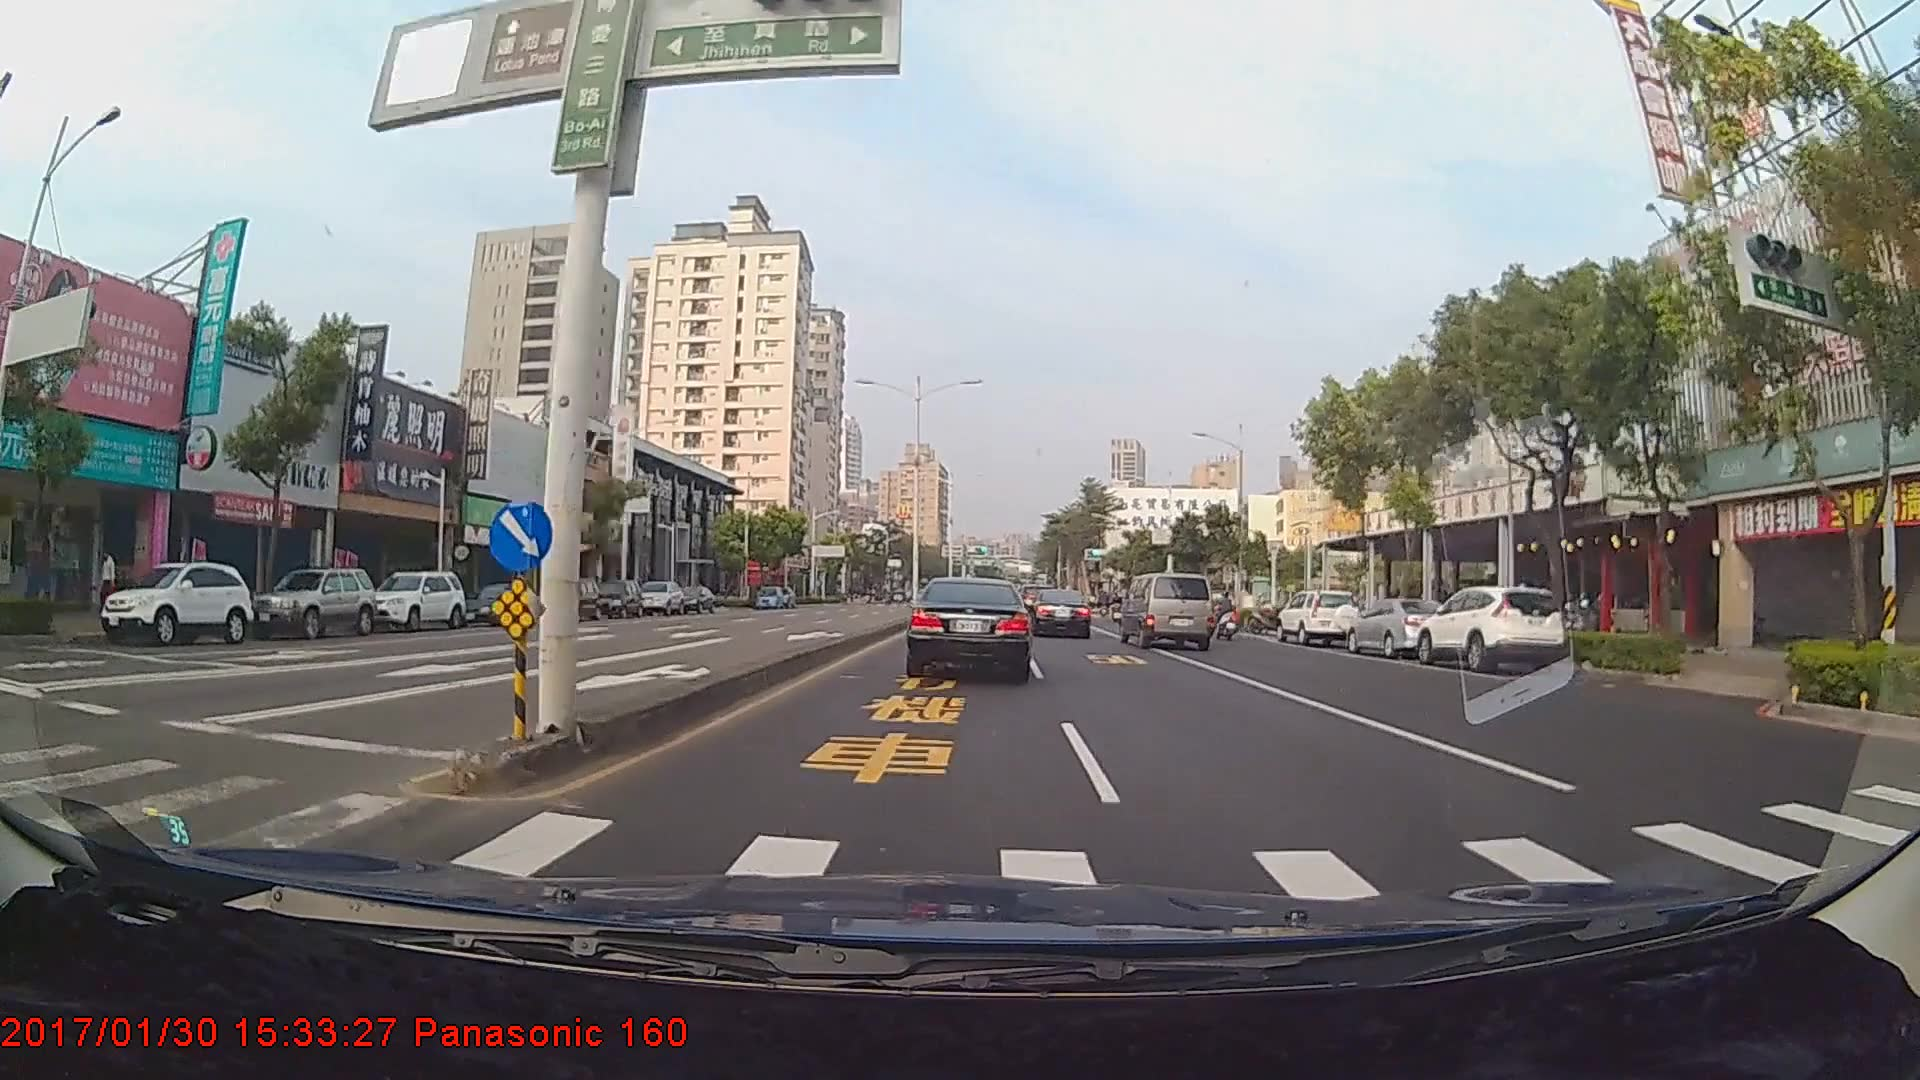pedestrian: (100, 552, 121, 619)
rider: (1211, 591, 1243, 642)
vehicle: (1413, 583, 1568, 674), (97, 563, 251, 646), (906, 577, 1032, 678), (252, 567, 376, 641), (1117, 573, 1214, 650), (1345, 597, 1455, 659), (363, 571, 466, 634), (1279, 590, 1359, 647), (453, 579, 550, 624), (1022, 588, 1092, 639), (538, 576, 603, 622), (591, 577, 642, 619), (634, 579, 686, 618), (673, 584, 716, 613), (753, 583, 783, 609)
